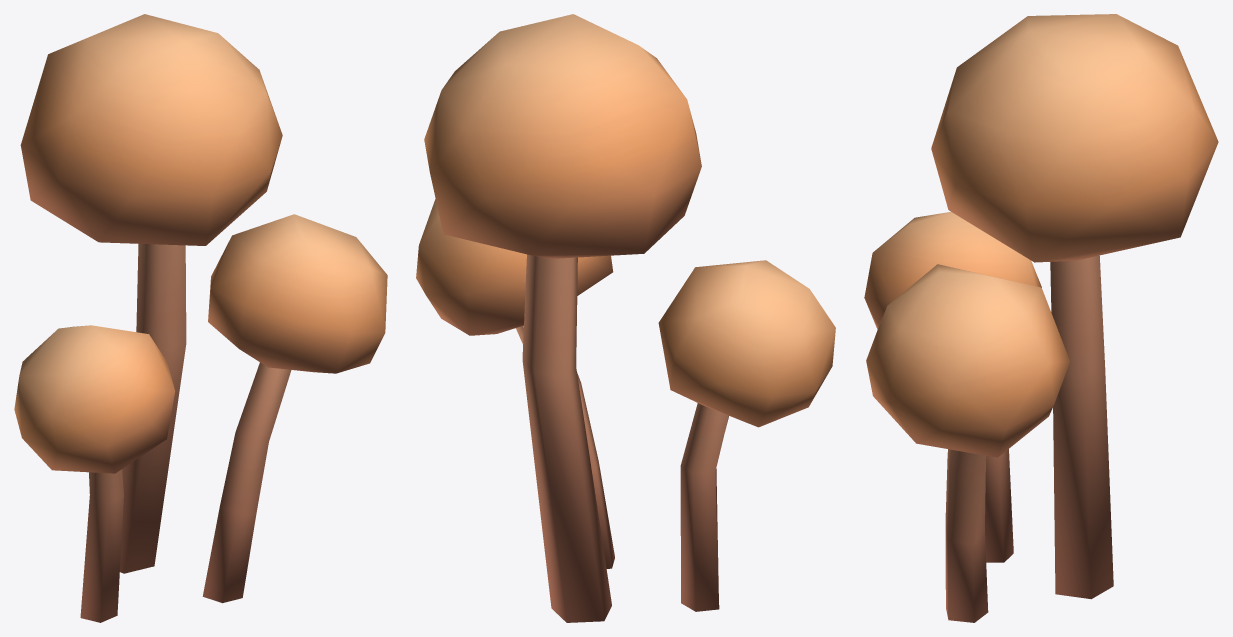
The model's file is mushroom_sphere_3.glb.
The picture shows the model from 3 angles, left to right: view 1: azimuth 30°, elevation 25°; view 2: azimuth 150°, elevation 25°; view 3: azimuth 270°, elevation 25°; orthographic projection. The views are drawn at different scales.
Parts seen in each view (by area): view 1: mushroom_sphere_3; view 2: mushroom_sphere_3; view 3: mushroom_sphere_3.
Boxes of the visible parts, <box> form: mushroom_sphere_3: <box>14,14,387,622</box>; mushroom_sphere_3: <box>416,14,835,622</box>; mushroom_sphere_3: <box>864,14,1218,622</box>.
Size of the model in its own units: 0.3974 by 0.5644 by 0.3128.
Materials: 1 (1 with a texture image).
